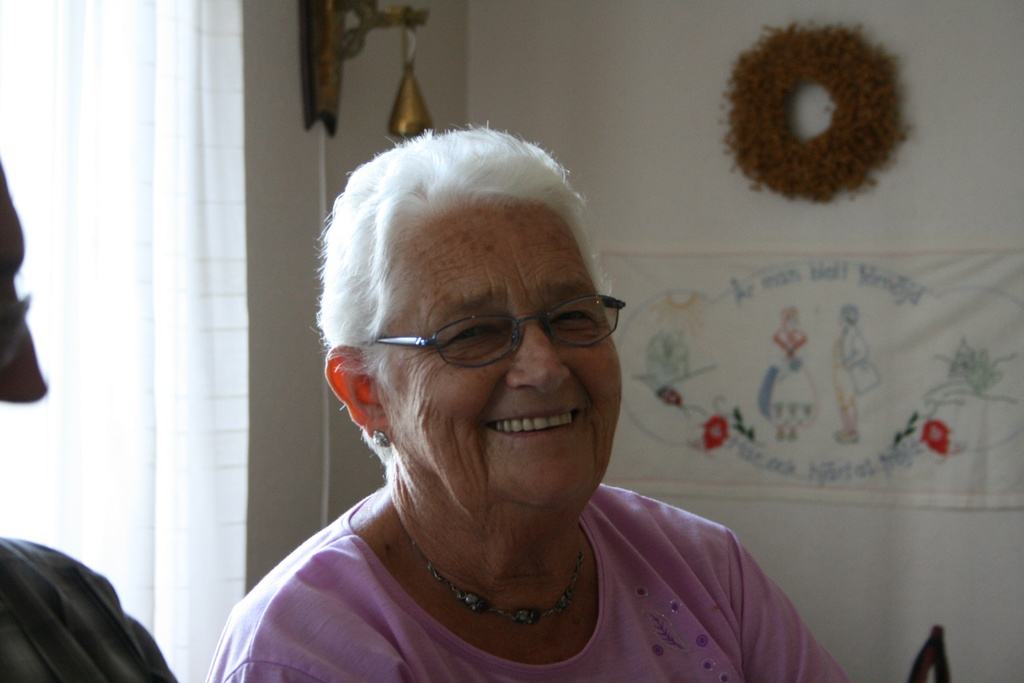Human-face: (371, 199, 622, 493)
